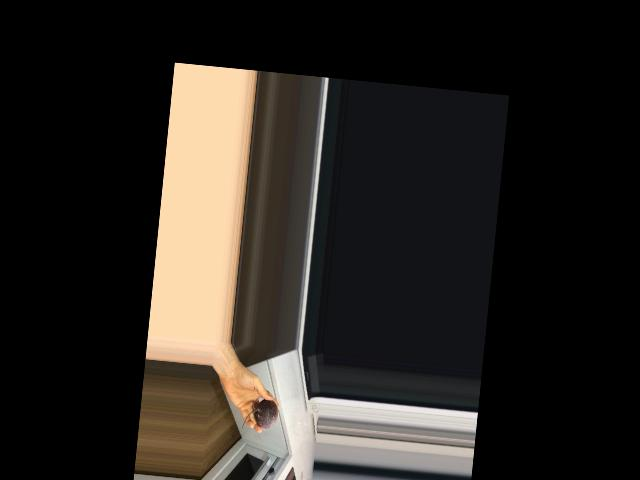beet: (241, 397, 279, 432)
